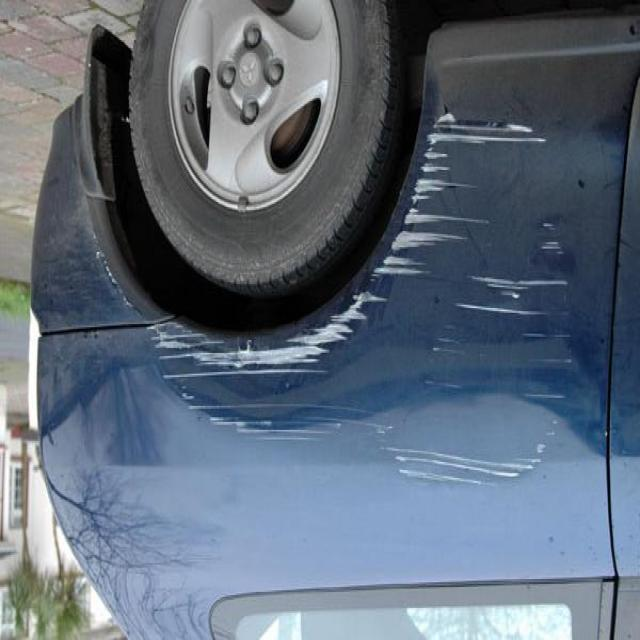scratch: (383, 108, 573, 498), (140, 268, 374, 438)
